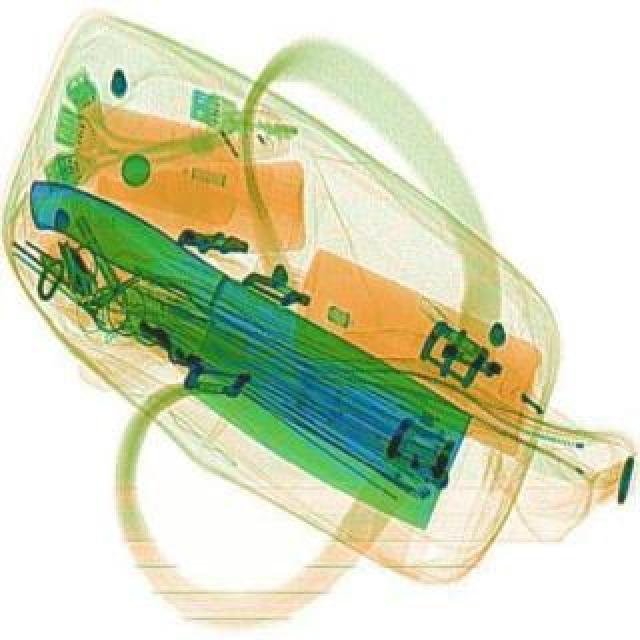knife: (0, 178, 488, 522)
